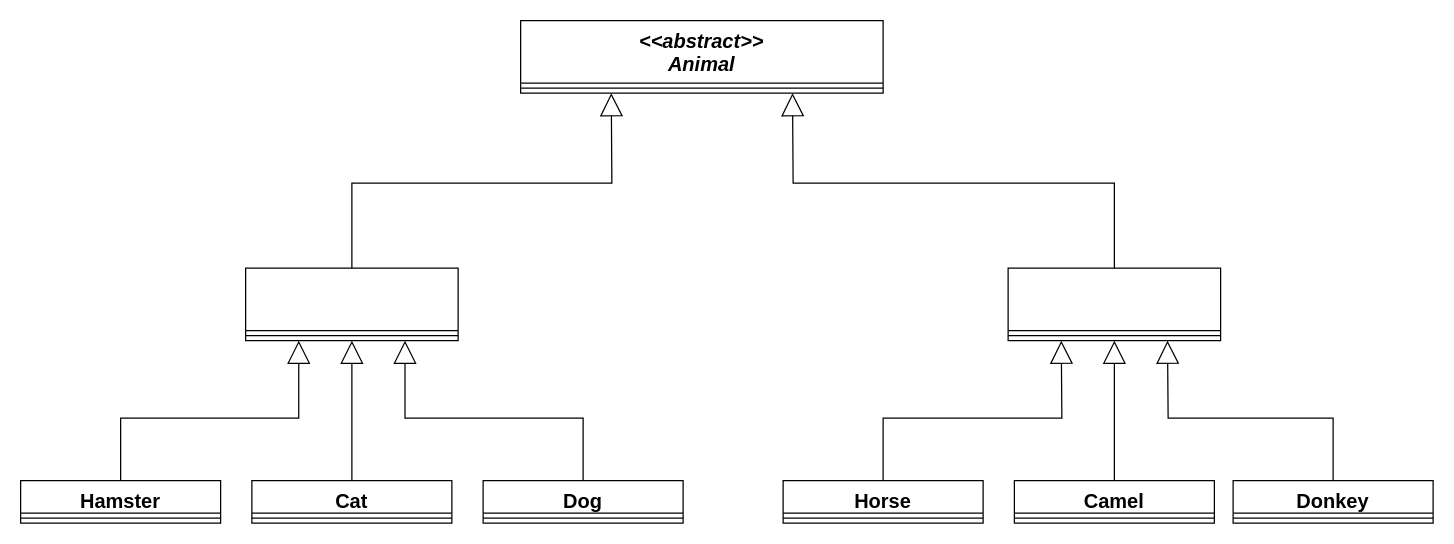
The diagram is 1454 pixels wide and 544 high, and some of its shapes have lost their labels. The shapes that lost their labels are listed below. From the top down, each one's box as (x1, y1, x2, y2) in pixels, then its label:
(244, 267, 458, 341): DomesticAnimal
(1007, 267, 1221, 341): HerdingAnimal
